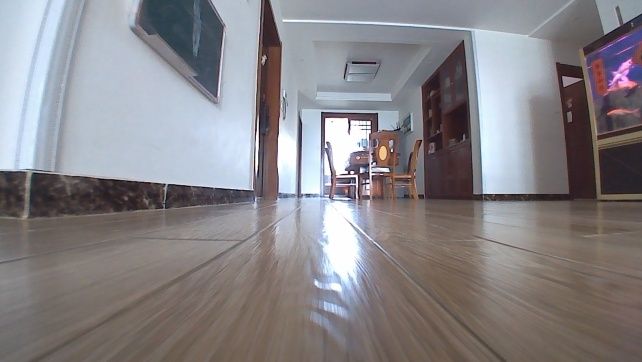dining_table: (322, 126, 425, 202)
door_anno: (560, 80, 598, 205)
